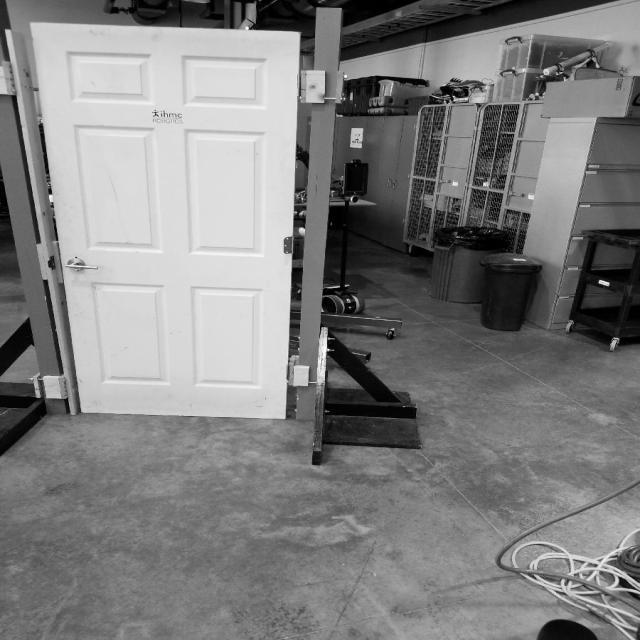door: (26, 18, 308, 426), (66, 256, 100, 276)
